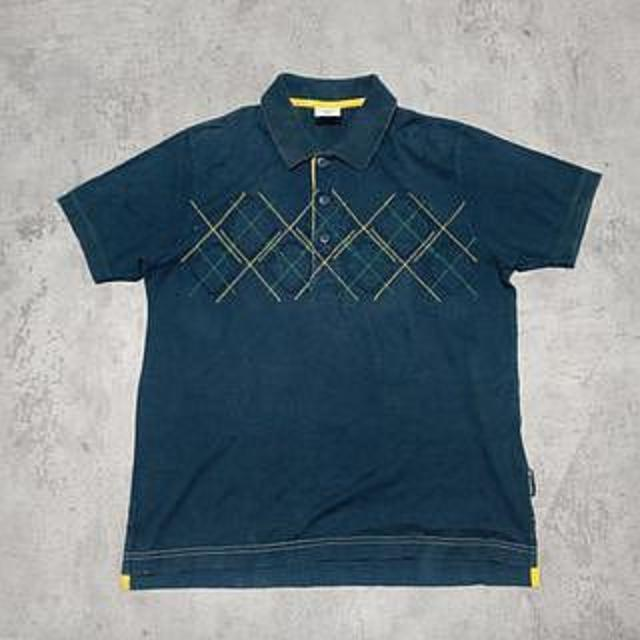T_SHIRT: (41, 52, 603, 599)
